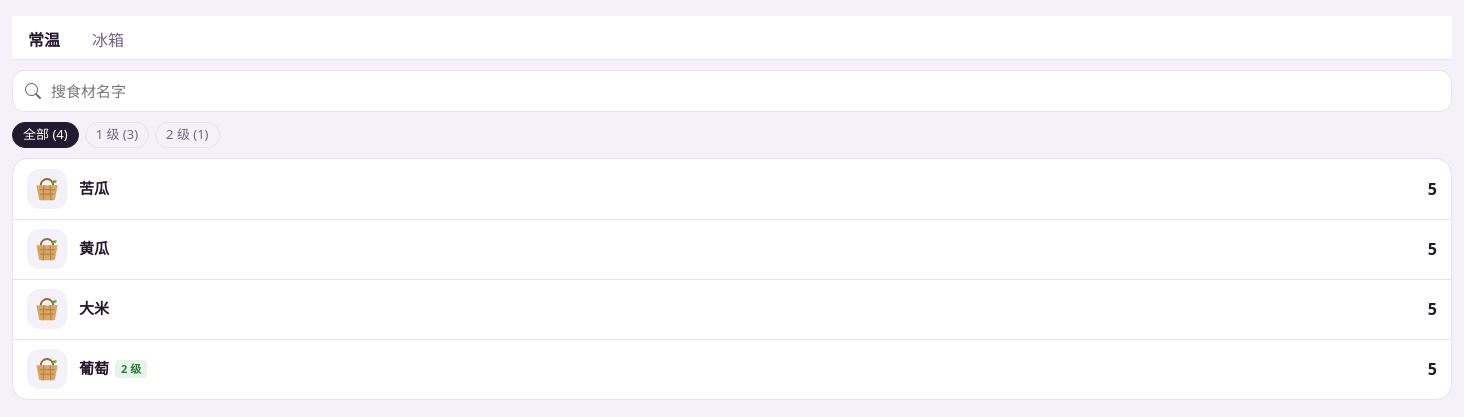
Test: CupboardView › 搜索框（橱柜改版）：按名字过滤，等级胶囊的数跟着变，匹配的字标出来；✕ 清空；搜不到时写明
Type "瓜" into the search field with test id "cupboard-q" at (744, 91), box left=49, top=79, right=1439, bottom=103
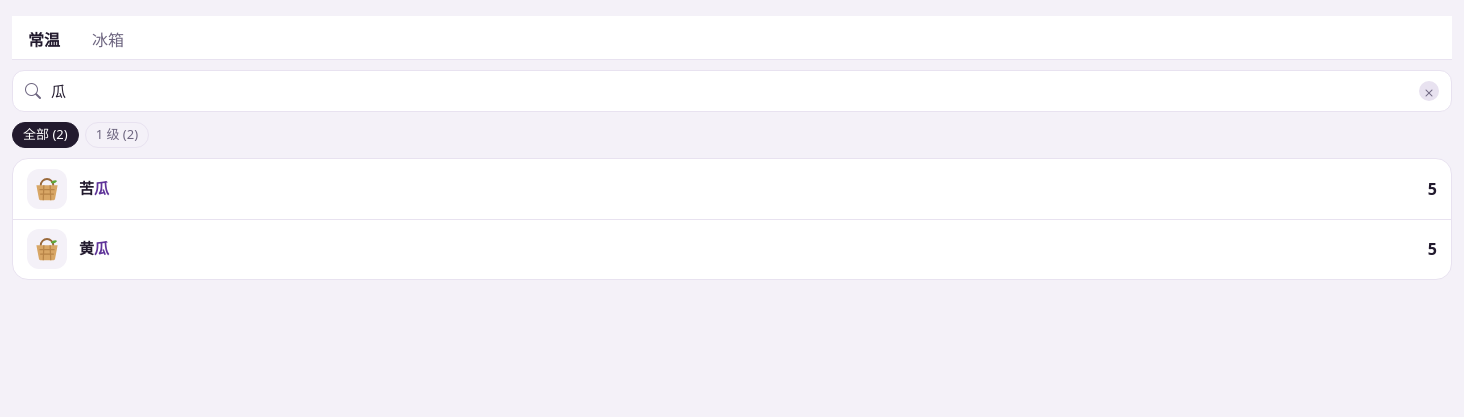
Expected: the 1st text "瓜" is shown, left=94, top=178, right=109, bottom=198
Expected: the button with test id "level-all" reads "全部 (2)", left=12, top=122, right=79, bottom=148
Expected: the button with test id "level-1" reads "1 级 (2)", left=85, top=122, right=149, bottom=148
Replace the text in the search field with test id "cupboard-q" with "松露" at (730, 91), box left=49, top=79, right=1411, bottom=103
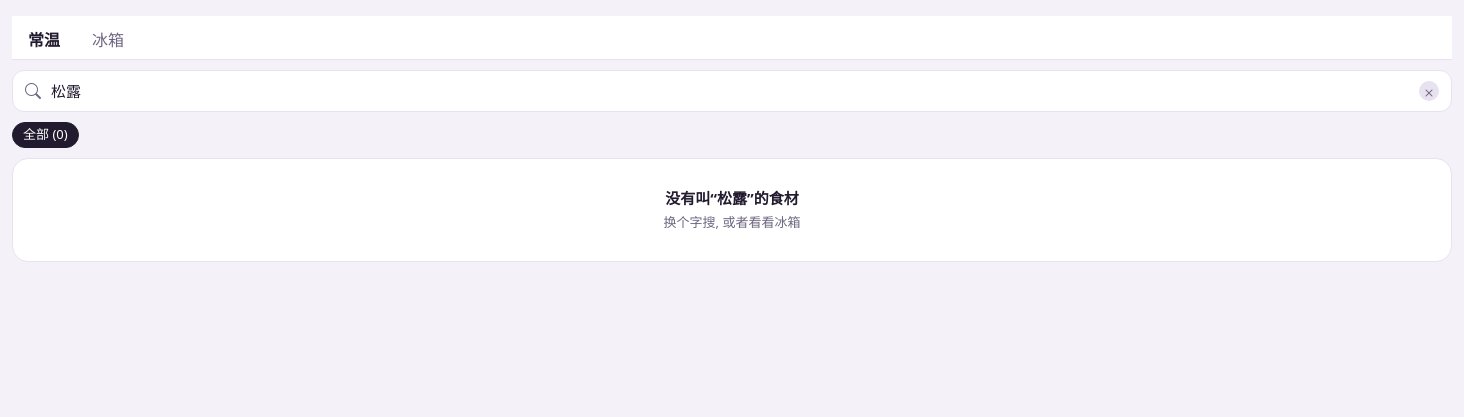
Expected: no buttons with class "dt-cup-row" are shown
Expected: the element with test id "cupboard-nomatch" shows "没有叫“松露”的食材", left=665, top=188, right=799, bottom=208
Expected: the element with test id "cupboard-nomatch" shows "看看冰箱", left=664, top=213, right=800, bottom=231
Click the button with test id "cupboard-q-clear" at (1429, 91), box left=1419, top=81, right=1439, bottom=101
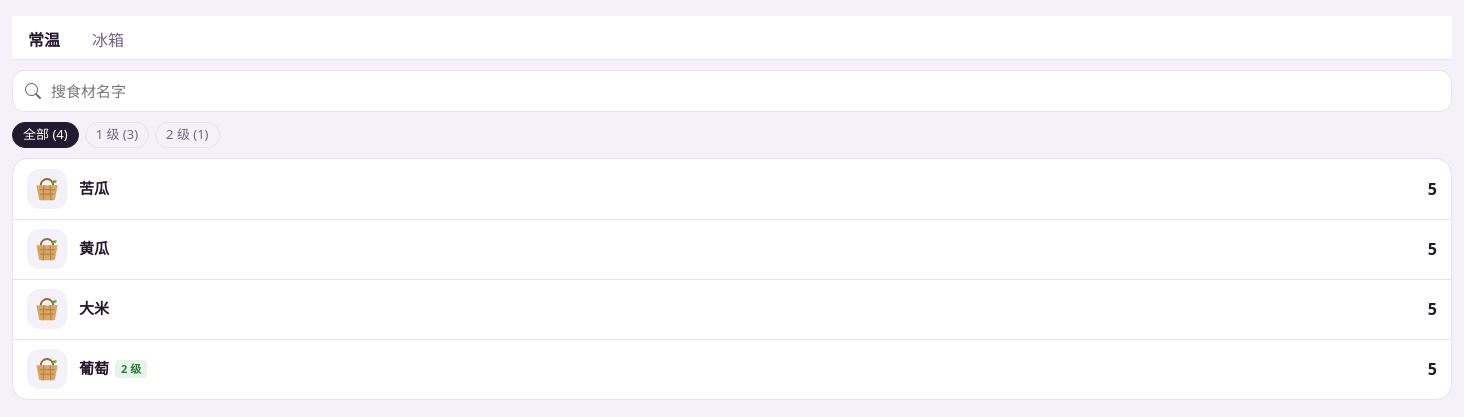
Expected: the search field with test id "cupboard-q" is empty, left=49, top=79, right=1439, bottom=103
Expected: the number of buttons with class "dt-cup-row" is 4, left=13, top=158, right=1451, bottom=218; left=13, top=218, right=1451, bottom=278; left=13, top=278, right=1451, bottom=338; left=13, top=338, right=1451, bottom=398
